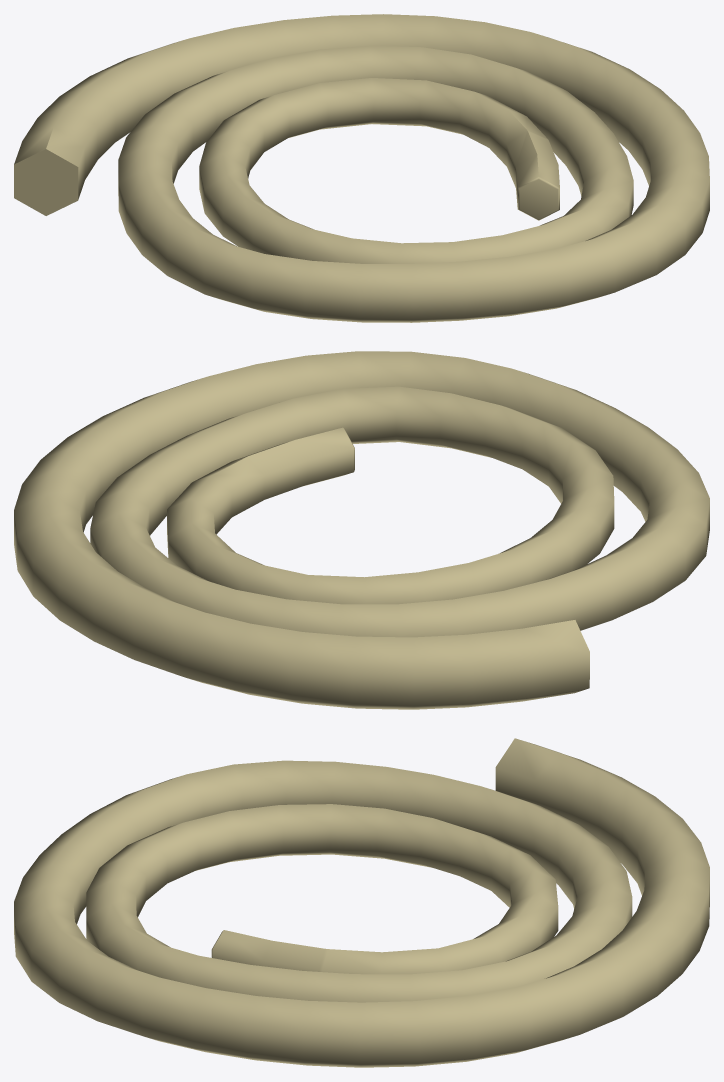
File: 3d rope.fbx
3 renders of one model, top to bottom at view 1: azimuth 30°, elevation 25°; view 2: azimuth 150°, elevation 25°; view 3: azimuth 270°, elevation 25°, orthographic. The views are drawn at different scales.
Parts seen in each view (by area): view 1: d_rope:sweep1; view 2: d_rope:sweep1; view 3: d_rope:sweep1.
Part boxes in pixels (x1=…): d_rope:sweep1: x1=14, y1=14, x2=709, y2=322; d_rope:sweep1: x1=14, y1=351, x2=709, y2=709; d_rope:sweep1: x1=14, y1=738, x2=709, y2=1067.
Bounding box in the file's own units: 40.96 × 4.69 × 42.04.
